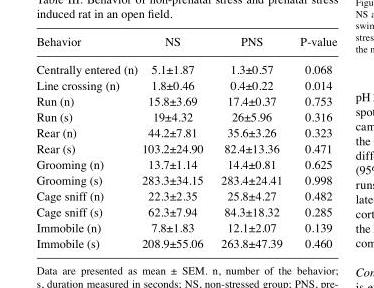table: (35, 35, 336, 250)
table column: (35, 35, 139, 250), (211, 35, 290, 250), (139, 35, 211, 250), (290, 35, 336, 250)
table column header: (35, 35, 336, 56)
table row: (35, 35, 336, 56), (35, 56, 336, 77), (35, 77, 336, 93), (35, 93, 336, 109), (35, 109, 336, 125), (35, 125, 336, 141), (35, 156, 336, 172), (35, 172, 336, 188), (35, 188, 336, 204), (35, 204, 336, 220), (35, 220, 336, 236), (35, 141, 336, 156), (35, 236, 336, 250)
